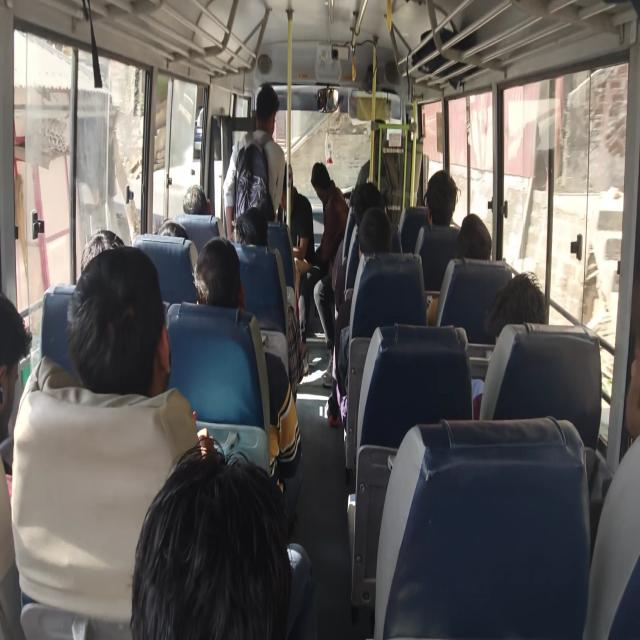person: (134, 457, 301, 640), (82, 250, 160, 392), (585, 340, 640, 457), (484, 285, 561, 365), (0, 314, 24, 473), (246, 69, 289, 149), (447, 204, 499, 267), (198, 254, 246, 318), (421, 170, 472, 228), (355, 214, 403, 271), (78, 225, 128, 278), (348, 167, 380, 234), (236, 205, 277, 250), (309, 154, 348, 199), (276, 162, 302, 216), (177, 179, 204, 222), (162, 213, 182, 248)
